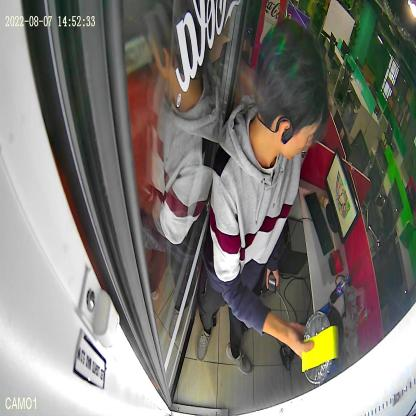blue: (309, 302, 345, 380)
yellow: (302, 310, 340, 386)
